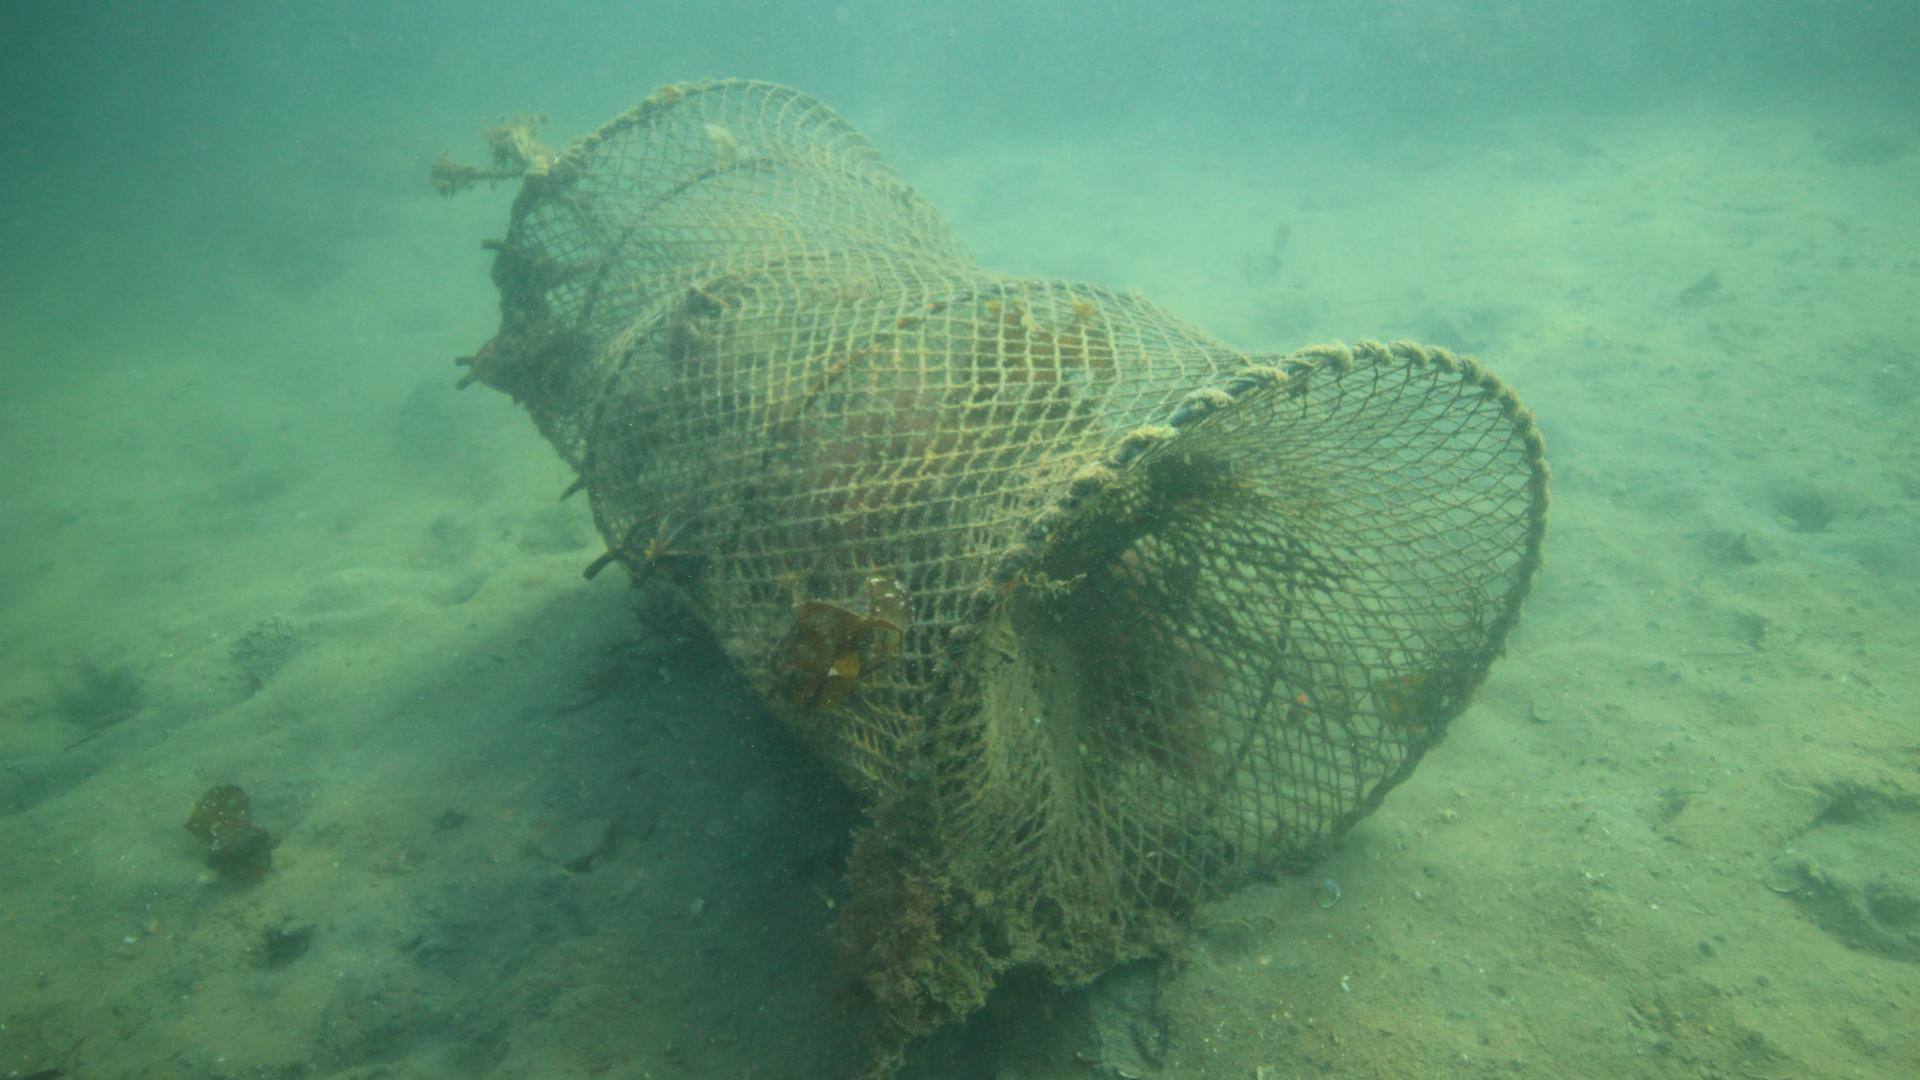spring fish trap: (496, 76, 1551, 928)
